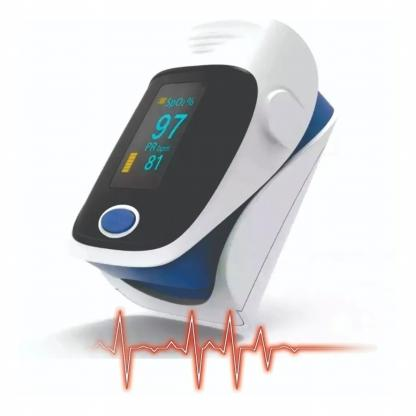Displays: (108, 82, 209, 190)
